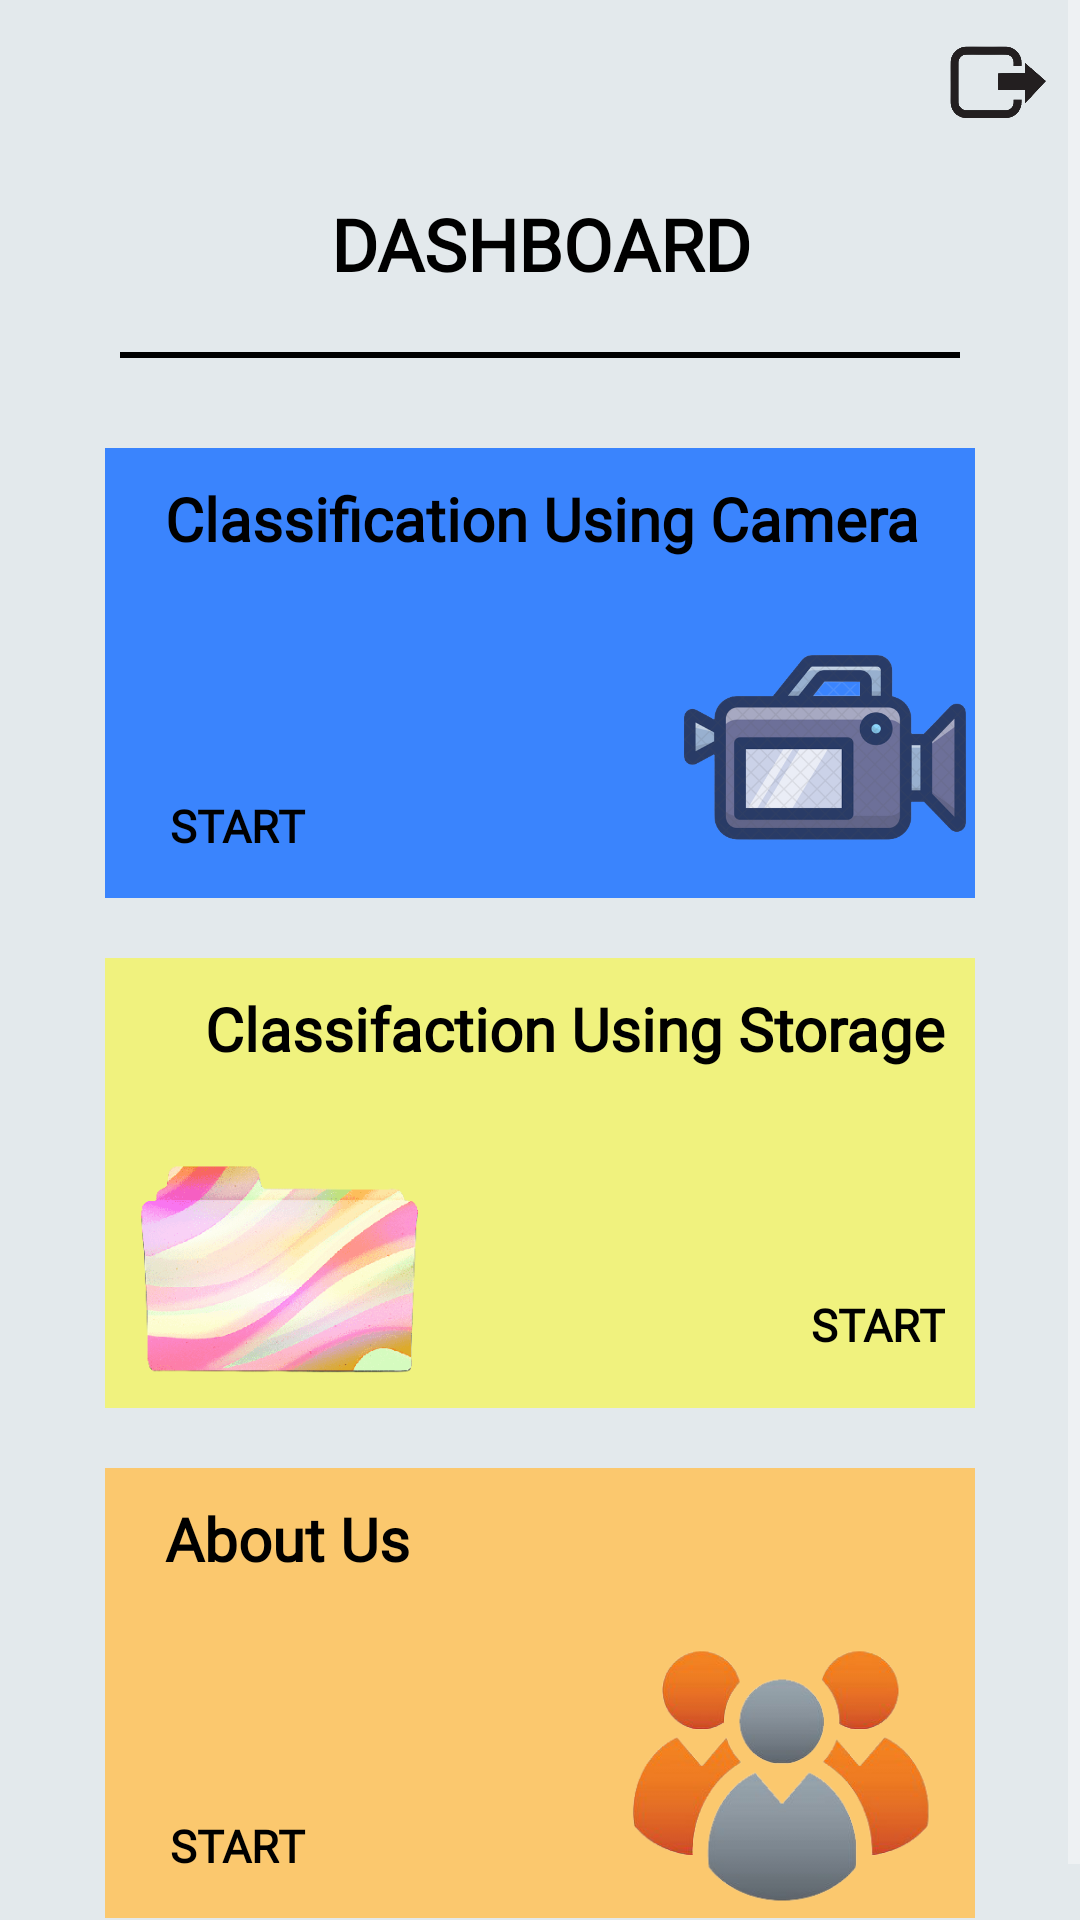

Icons on this 1080 × 1920 Android screen, each with its box as (x1, y1, x2, y2):
exit: (950, 46, 1046, 118)
realtime: (684, 655, 966, 840)
